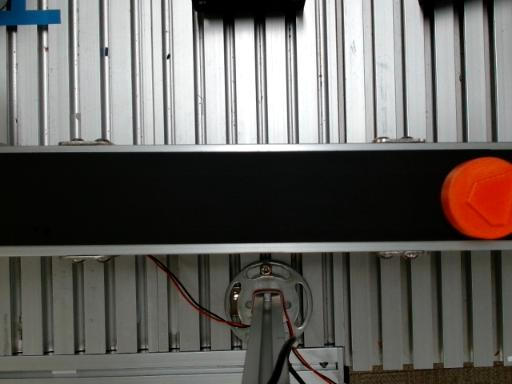Not_Square: (465, 171, 511, 226)
Orange_Waper: (442, 157, 511, 239)
